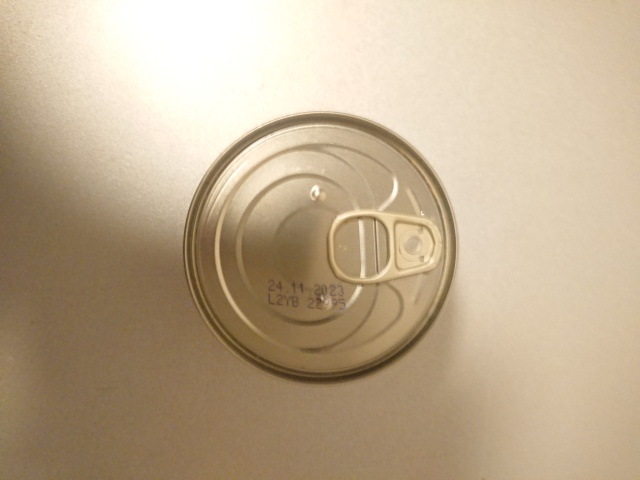Podravka Luncheon Meat 150g: (177, 106, 463, 388)
